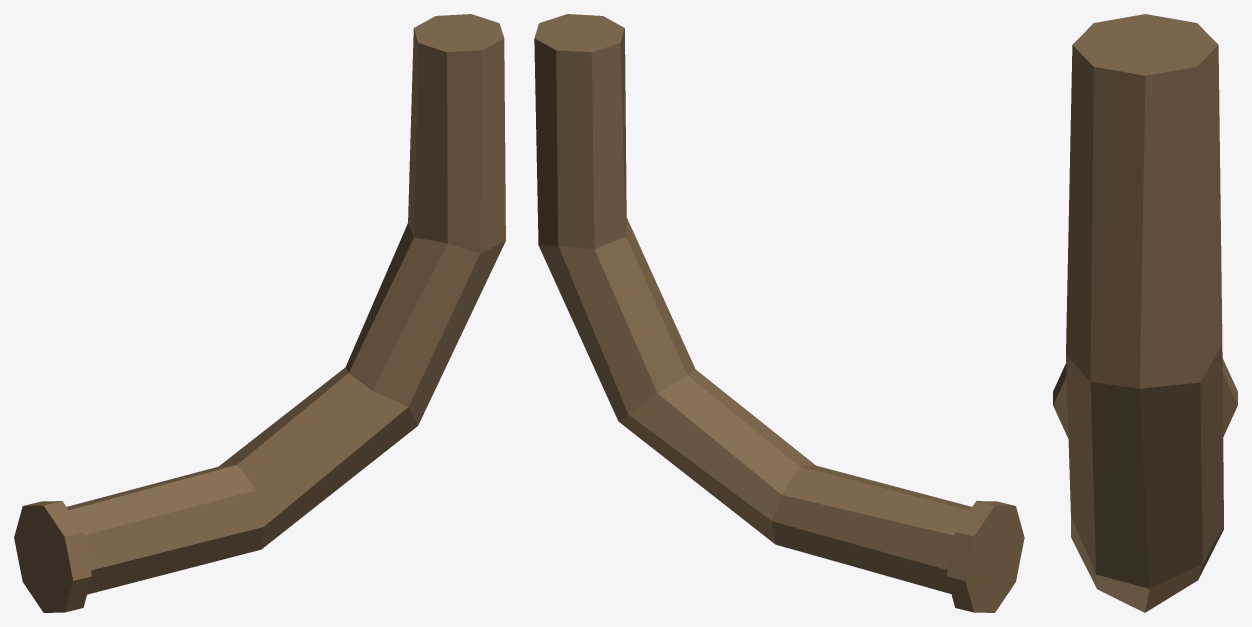
Rendered from SM_Prop_Pipe_02_Corner_02.fbx.
3 views of the same model, side by side, from view 1: azimuth 30°, elevation 25°; view 2: azimuth 150°, elevation 25°; view 3: azimuth 270°, elevation 25° (orthographic). The views are drawn at different scales.
Visible parts, largest first — view 1: SM_Prop_Pipe_02_Corner_02; view 2: SM_Prop_Pipe_02_Corner_02; view 3: SM_Prop_Pipe_02_Corner_02.
Part boxes in pixels (x1=…): SM_Prop_Pipe_02_Corner_02: x1=14, y1=14, x2=505, y2=612; SM_Prop_Pipe_02_Corner_02: x1=534, y1=14, x2=1024, y2=612; SM_Prop_Pipe_02_Corner_02: x1=1053, y1=14, x2=1237, y2=612.
Bounding box in the file's own units: 84.24 × 84.48 × 18.95.
